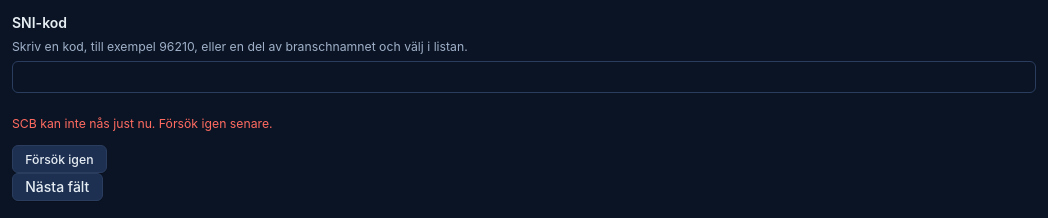
Test: SniPicker › shows the error and loads the list again on retry
Expected: the message "SCB kan inte nås just nu. Försök igen senare. Försök igen" is shown, x1=12 y1=116 x2=273 y2=173
Expected: the dropdown is disabled, x1=12 y1=61 x2=1036 y2=93
Click the button "Försök igen" at [59, 159], box x1=12 y1=145 x2=107 y2=173
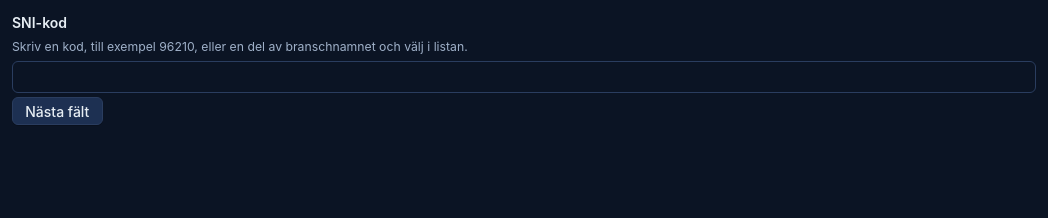
Expected: the dropdown is enabled, x1=12 y1=61 x2=1036 y2=93
Expected: the message "SCB kan inte nås just nu. Försök igen senare. Försök igen" is gone
